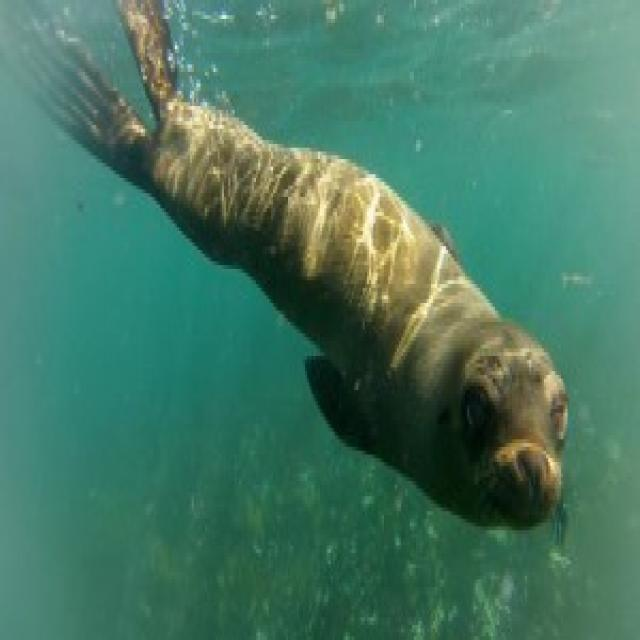Seal: (58, 32, 588, 534)
